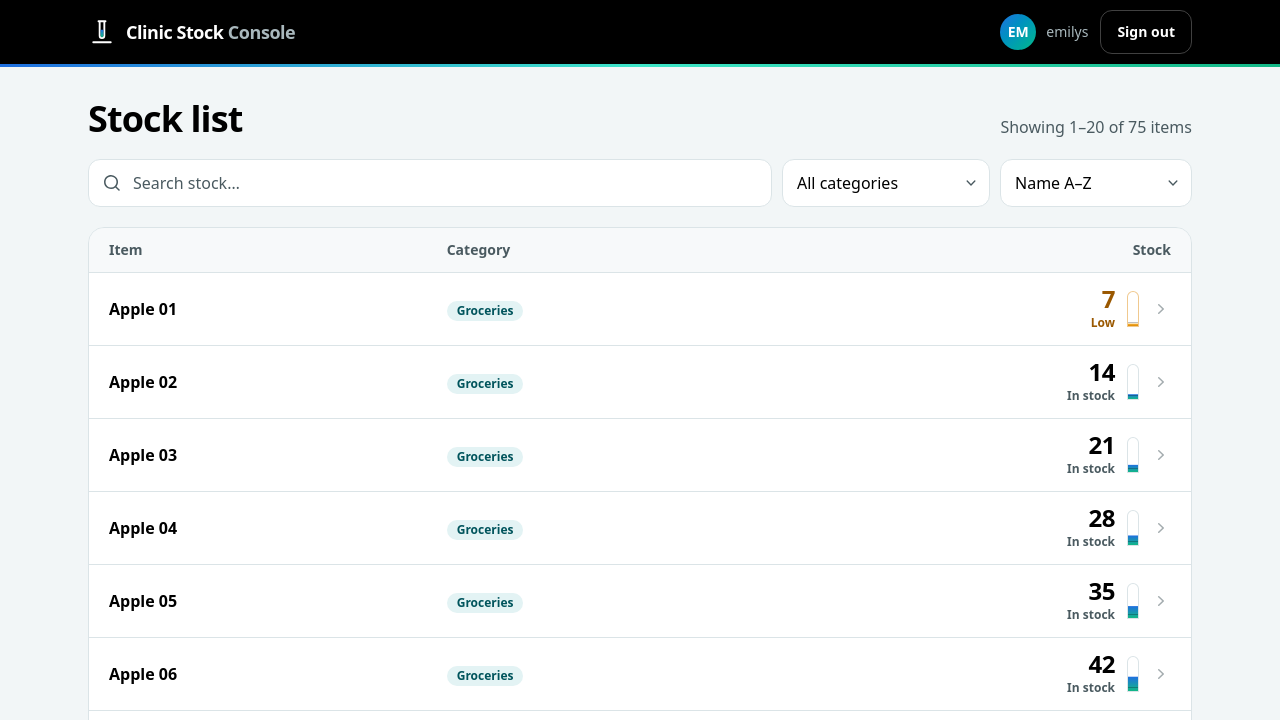
Test: 1. Search never shows results for a replaced query › ignores a slow response for an earlier term, even when it arrives last
The width and height of the screenshot is (1280, 720).
Check: the text "Showing 1–20 of 75 items" is shown, box [1000,115,1192,139]
Type "laptop" into the search field named "Search stock by name" at x=430, y=183, box [88,159,772,207]
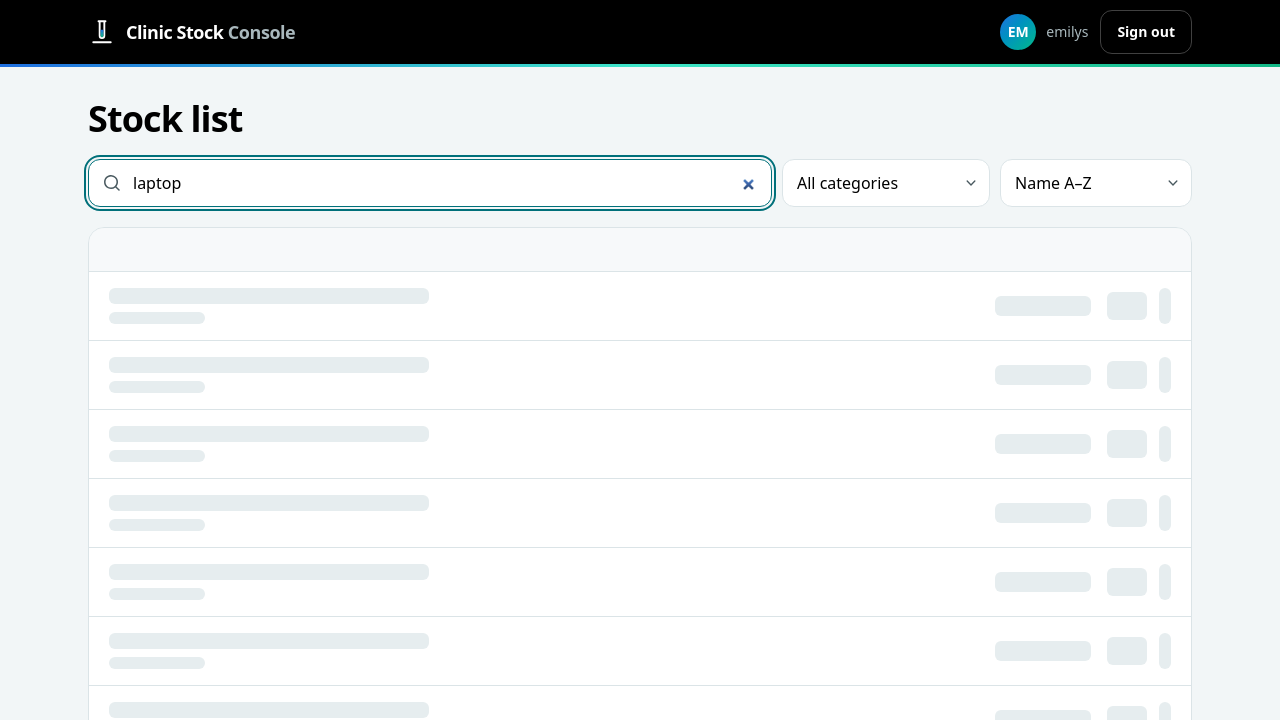
Replace the text in the search field named "Search stock by name" with "phone" at x=430, y=183, box [88,159,772,207]
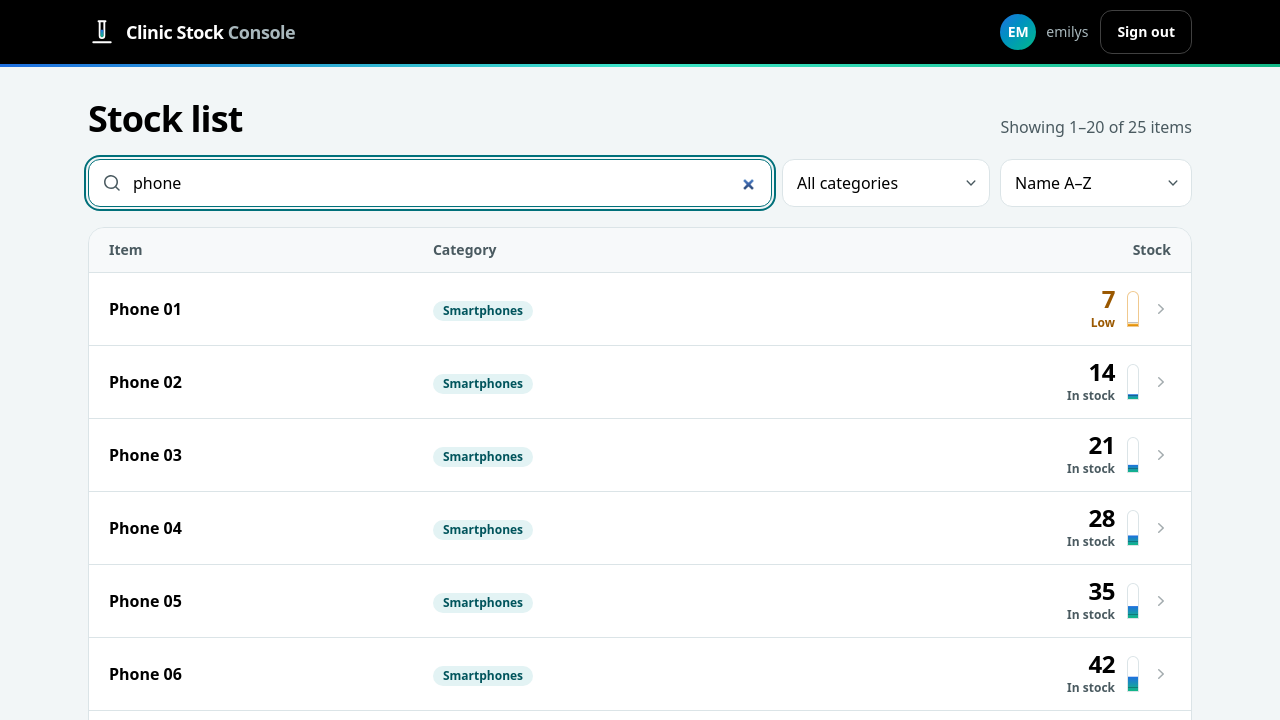
Check: the link "Phone 01" is shown, box [109,298,182,320]
